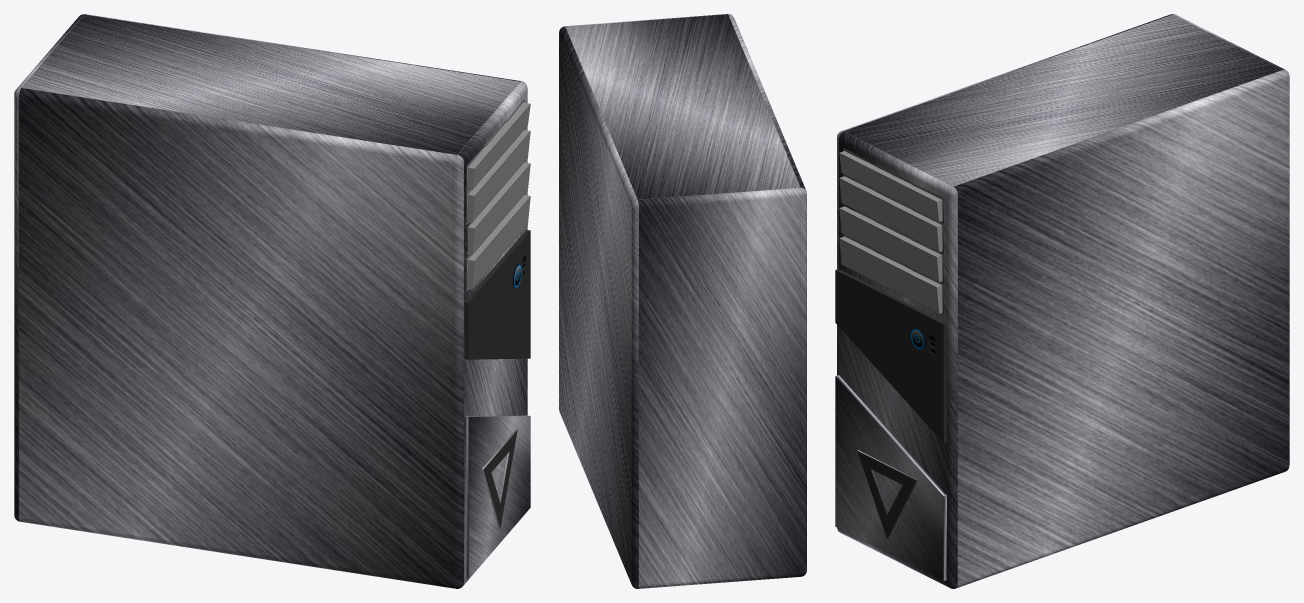
3 renders of one model, left to right at view 1: azimuth 30°, elevation 25°; view 2: azimuth 150°, elevation 25°; view 3: azimuth 270°, elevation 25°, orthographic. The views are drawn at different scales.
Visible parts, largest first — view 1: PC.003; view 2: PC.003; view 3: PC.003.
Boxes of the visible parts, box(x1,y1,x2,y2) form: PC.003: box(14, 14, 530, 588); PC.003: box(559, 14, 806, 588); PC.003: box(835, 14, 1289, 588).
Bounding box in the file's own units: 190 × 200 × 205.
Materials: 5 (2 with a texture image).
